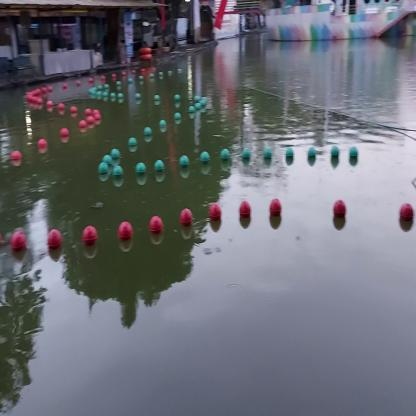green_buoy: (305, 145, 318, 166), (198, 147, 209, 171), (177, 157, 191, 172), (136, 160, 146, 181), (112, 165, 123, 184), (284, 147, 296, 164), (243, 145, 251, 170), (349, 146, 360, 164), (142, 128, 154, 144), (104, 154, 114, 173), (155, 156, 164, 177), (221, 146, 230, 166), (331, 147, 340, 166), (264, 145, 274, 162), (158, 120, 168, 135), (98, 162, 107, 178), (112, 147, 121, 162), (128, 137, 137, 150)
red_buoy: (47, 225, 63, 256), (11, 230, 26, 260), (210, 199, 224, 228), (83, 225, 98, 252), (239, 195, 251, 228), (270, 195, 282, 227), (400, 198, 412, 230), (180, 208, 194, 234), (120, 224, 134, 250), (150, 213, 163, 239), (335, 201, 346, 225), (60, 125, 70, 146), (12, 149, 20, 164), (39, 138, 47, 152), (80, 120, 86, 136)
